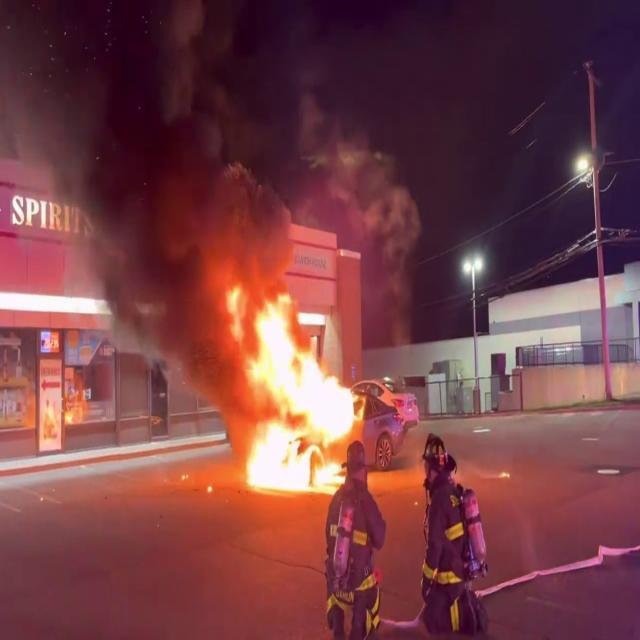Fire: (223, 276, 366, 496)
Smoke: (31, 0, 356, 332)
